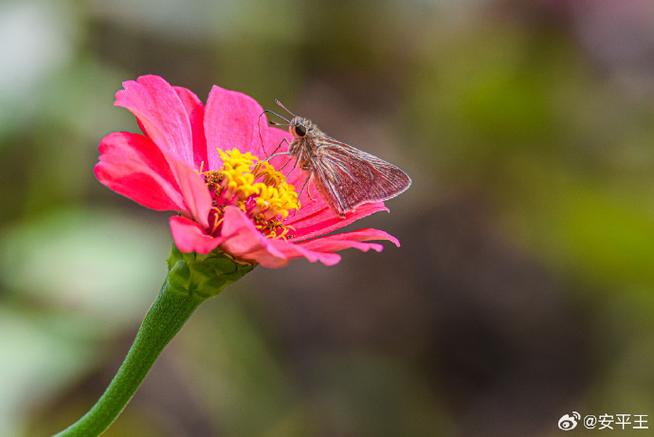Hesperiidae: (258, 93, 416, 218)
